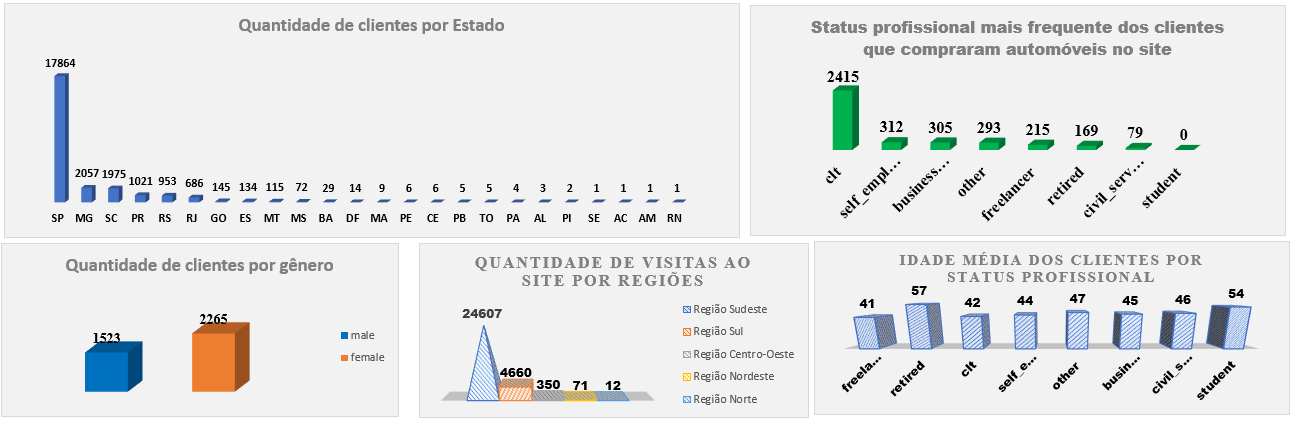

Layout of this report page (visuals, bound fields, positions):
{"tool":"powerbi","page":{"name":"Página 1","canvas":[1280,720],"ordinal":0},"visuals":[{"type":"barChart","title":"Quantidade de clientes por Estado","fields":{"Category":["Quantidade de clientes por Estado (Tabelas) (2).Estado"],"Y":["Sum(Quantidade de clientes por Estado (Tabelas) (2).contagem)"]},"box":[10.1,74.7,583.5,274.5],"z":0},{"type":"columnChart","title":"Status profissional mais frequente dos clientes que compram na empresa","fields":{"Y":["Sum(Status profissional que mais aparece (Tabelas).Pagamentos)"],"Category":["Status profissional que mais aparece (Tabelas).Status profissional"],"Series":["Idade média dos clientes por status profissional (Tabelas) (2).Status profissional"]},"box":[607.9,74.7,658.2,274.5],"z":1000},{"type":"clusteredColumnChart","title":"Quantidade de clientes por Gênero","fields":{"Y":["Sum(Quantidade de clientes por gênero (Tabelas).Contagem)"],"Category":["Quantidade de clientes por gênero (Tabelas).Gênero"],"Series":["Quantidade de clientes por gênero (Tabelas).Gênero"]},"box":[10.1,388,343.5,319],"z":2000},{"type":"clusteredColumnChart","title":"Quantidade de visitas ao site da empresa por região","fields":{"Category":["Quantidade de visitas ao site por regiões (Tabelas).Região"],"Y":["Sum(Quantidade de visitas ao site por regiões (Tabelas).Visitas)"],"Series":["Quantidade de visitas ao site por regiões (Tabelas).Região"]},"box":[388,388,438.3,319],"z":3000},{"type":"clusteredColumnChart","title":"Idade média por status profissional","fields":{"Y":["Sum(Idade média dos clientes por status profissional (Tabelas) (2).Idade_media)"],"Category":["Idade média dos clientes por status profissional (Tabelas) (2).Status profissional"],"Series":["Idade média dos clientes por status profissional (Tabelas) (2).Status profissional"]},"box":[839.3,388,441.2,319],"z":4000},{"type":"textbox","box":[41.7,0,1195.7,58.9],"z":5000}]}

Visuals, with their boxes on the page's 1280x720 design canvas (x1, y1, x2, y2). These are canvas units, not pixel positions in the 1296x421 screenshot, which may show the page scaled, cropped or inside an application window:
"Quantidade de clientes por Estado" barChart: {"x1": 10, "y1": 75, "x2": 594, "y2": 349}
"Status profissional mais frequente dos clientes que compram na empresa" columnChart: {"x1": 608, "y1": 75, "x2": 1266, "y2": 349}
"Quantidade de clientes por Gênero" clusteredColumnChart: {"x1": 10, "y1": 388, "x2": 354, "y2": 707}
"Quantidade de visitas ao site da empresa por região" clusteredColumnChart: {"x1": 388, "y1": 388, "x2": 826, "y2": 707}
"Idade média por status profissional" clusteredColumnChart: {"x1": 839, "y1": 388, "x2": 1280, "y2": 707}
textbox: {"x1": 42, "y1": 0, "x2": 1237, "y2": 59}
